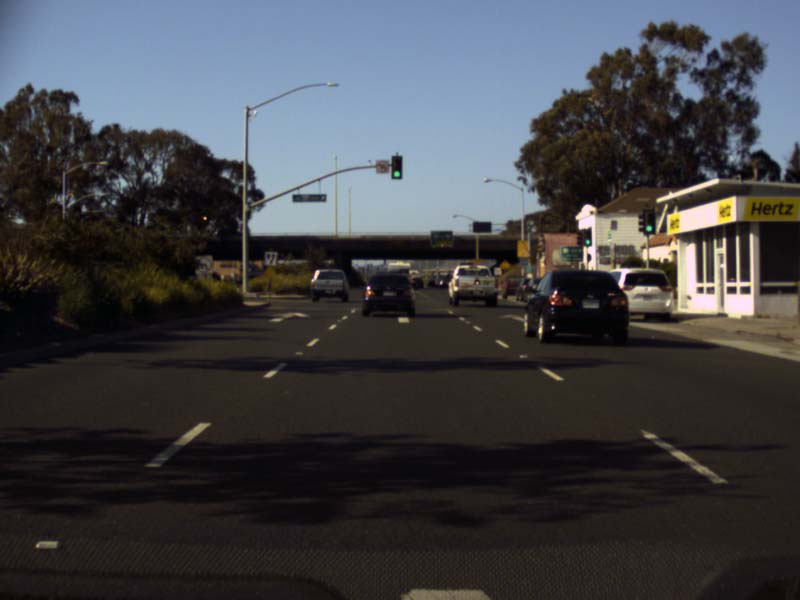Green: (391, 156, 401, 177), (645, 212, 654, 233), (583, 229, 591, 245)
